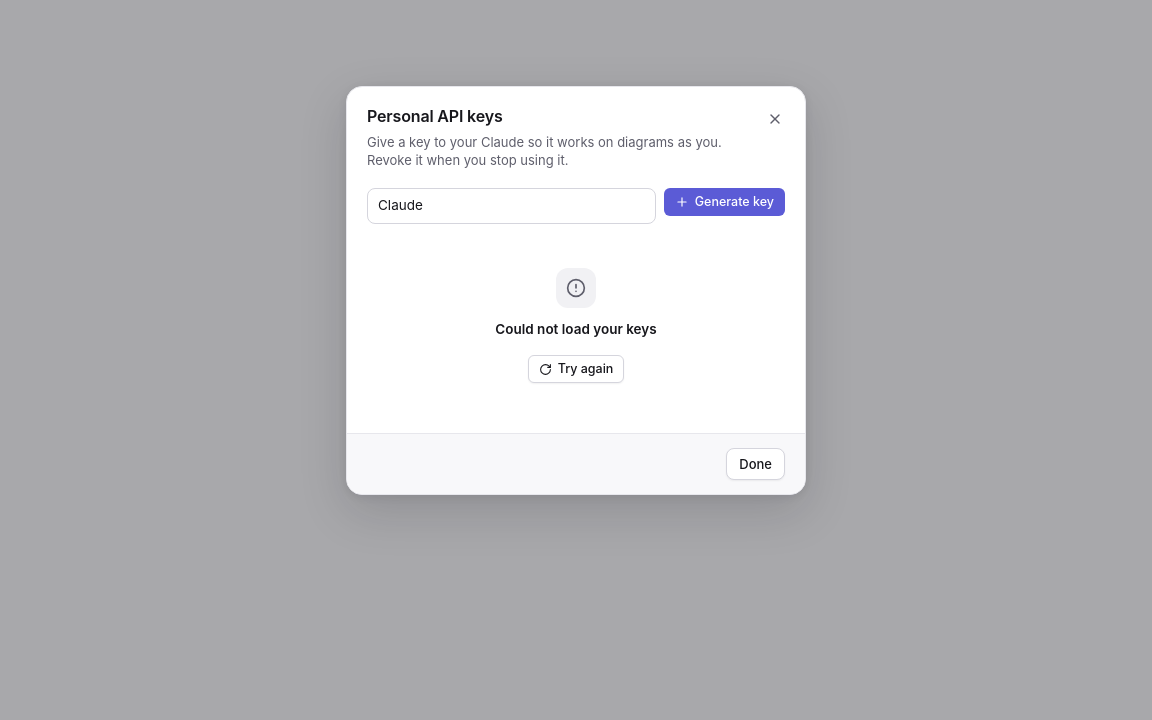
Test: ApiKeysDialog › should offer a retry instead of an empty list when the keys fail to load
Expected: the text "Could not load your keys" is shown, [495, 320, 657, 339]
What coordinates should you click on to do the following:
click the button "Try again"
I would click on:
 (576, 369)
Its box is [528, 355, 624, 383].
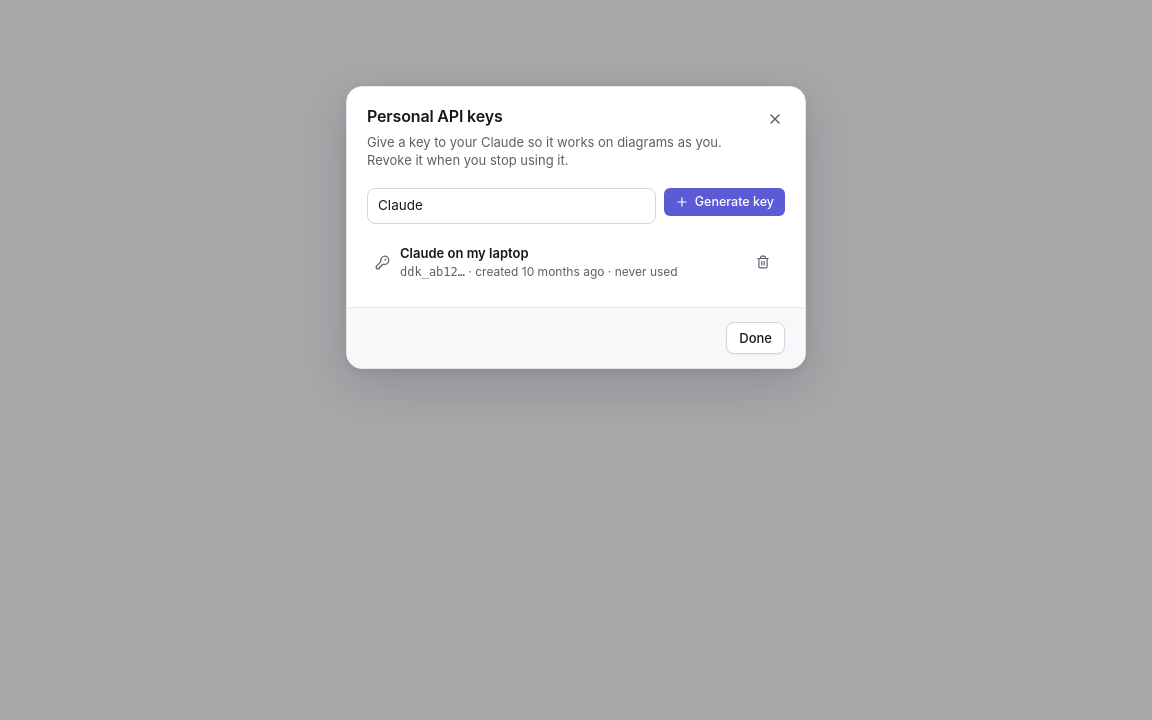
Expected: the text "Claude on my laptop" is shown, [400, 245, 528, 261]
